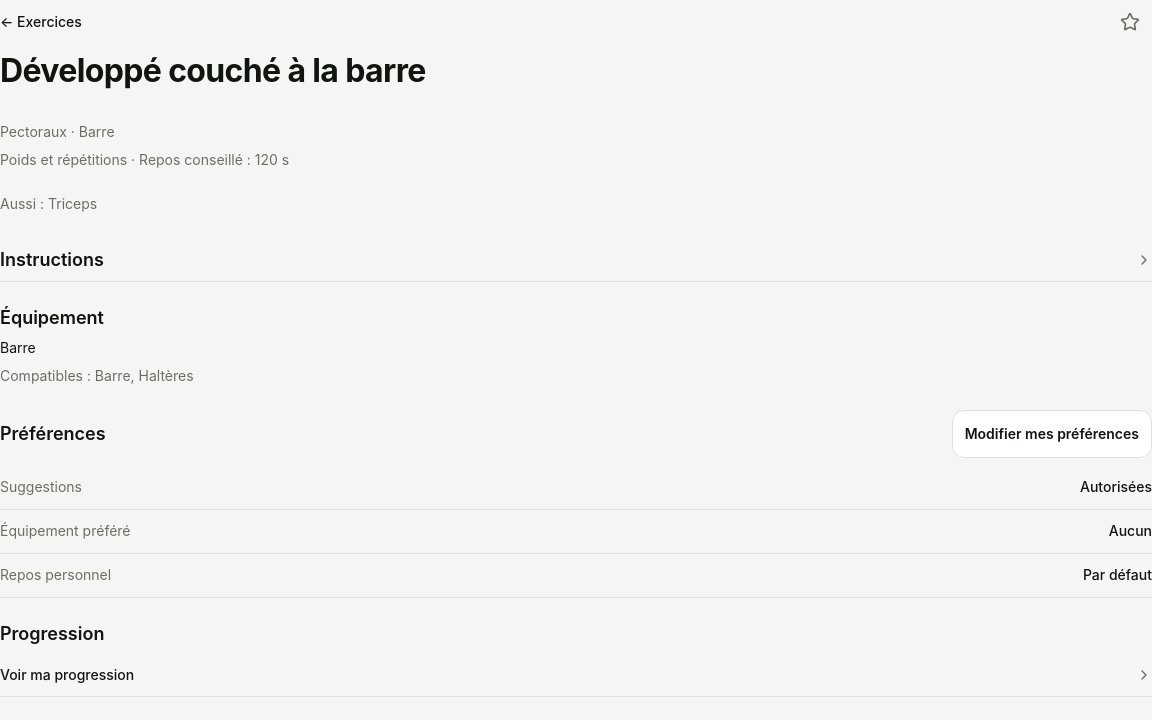
ExerciseDetailPage preferences › validates invalid rest seconds
Check: the heading "Développé couché à la barre" is shown, box top-left (0, 51), bottom-right (426, 90)
Click the button "Modifier mes préférences" at [1052, 434], box top-left (952, 410), bottom-right (1151, 458)
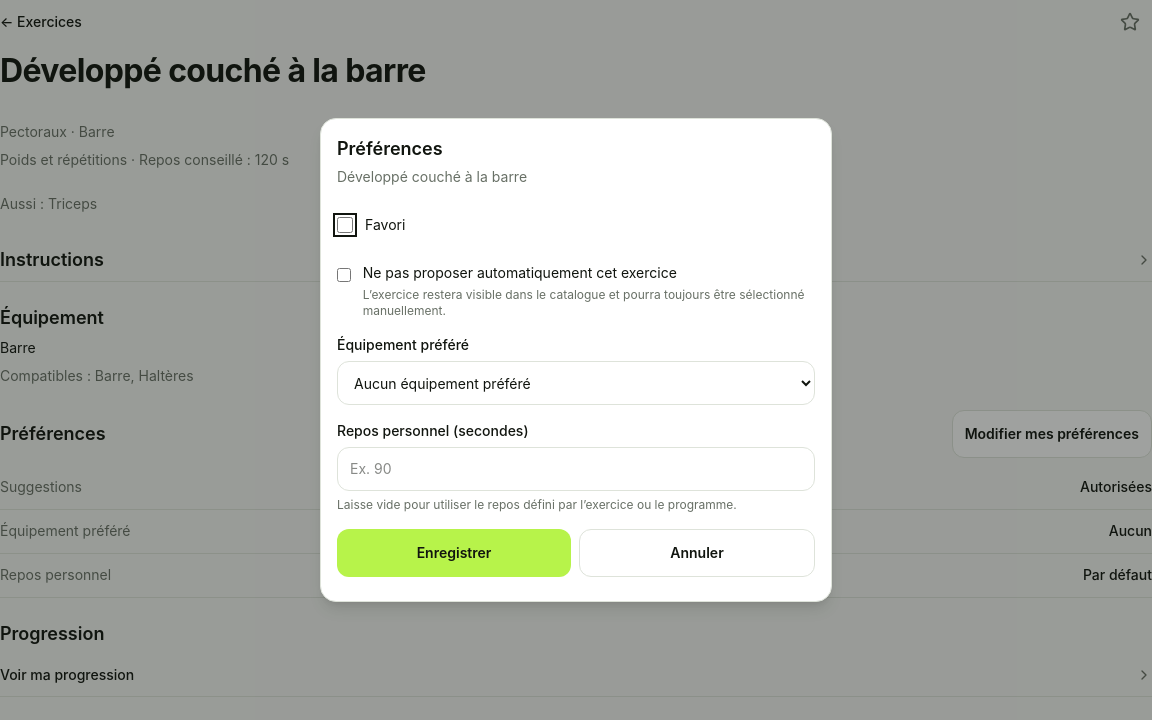
Type "abc" into the field labelled "Repos personnel" at [576, 469], box top-left (337, 447), bottom-right (815, 491)
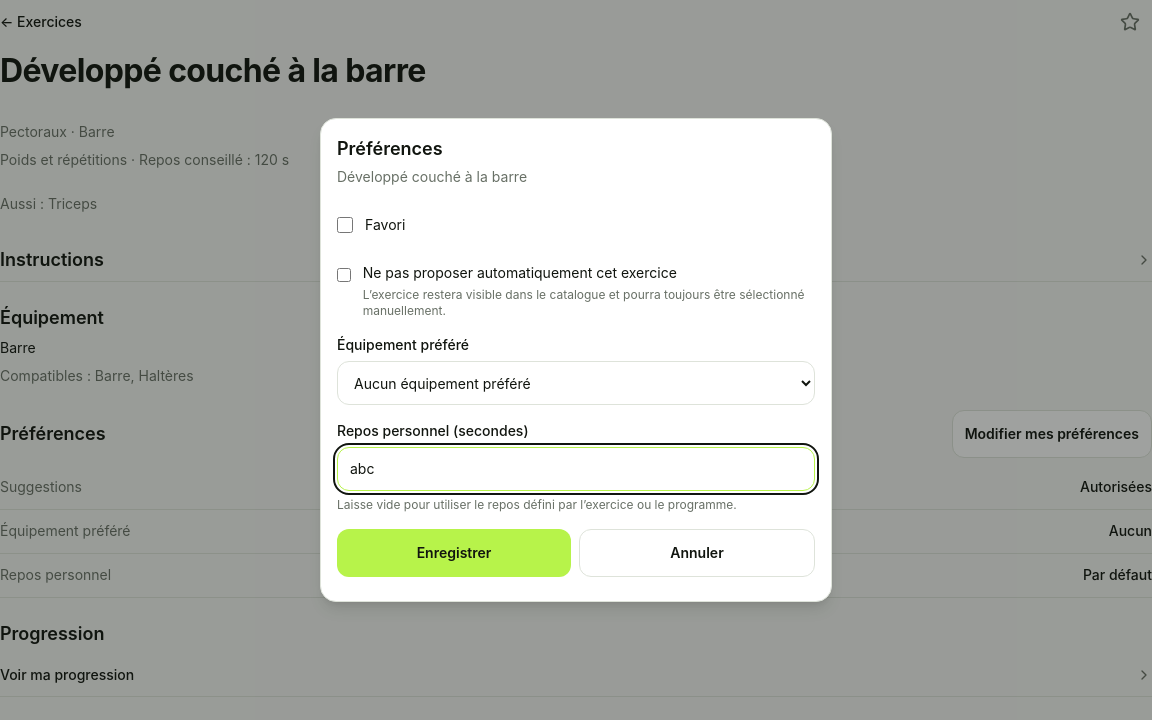
Click the button "Enregistrer" at [454, 553], box top-left (337, 529), bottom-right (571, 577)
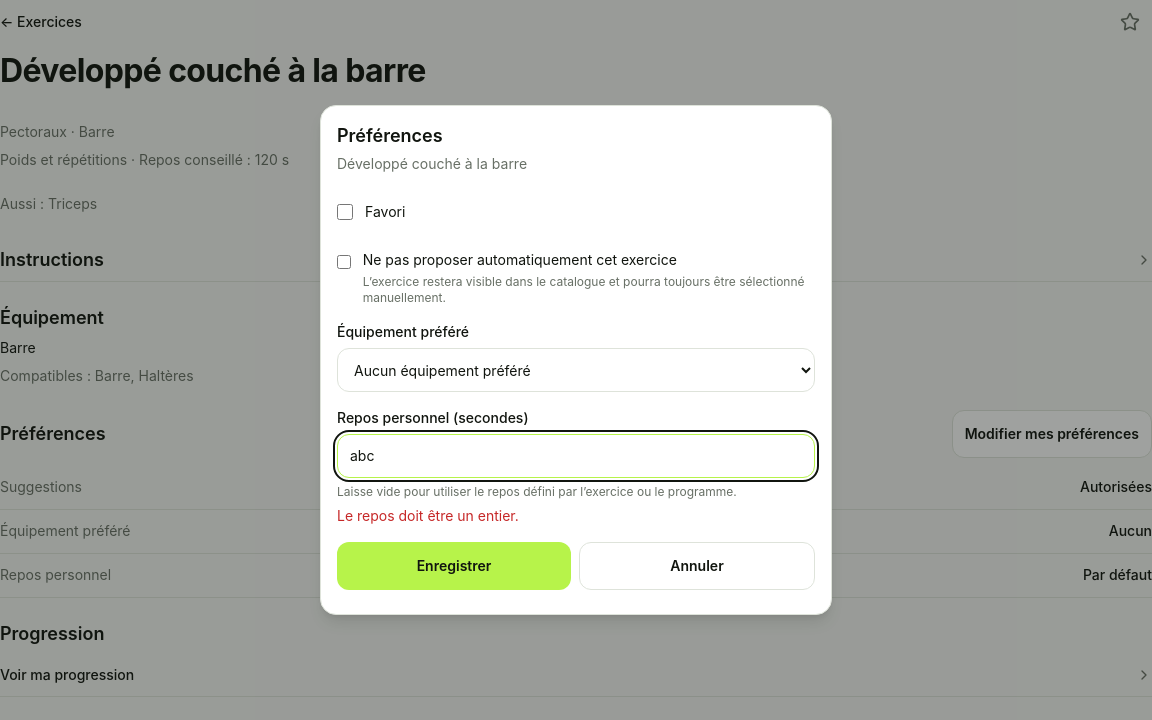
Check: the text "Le repos doit être un entier." is shown, box top-left (337, 507), bottom-right (519, 524)
